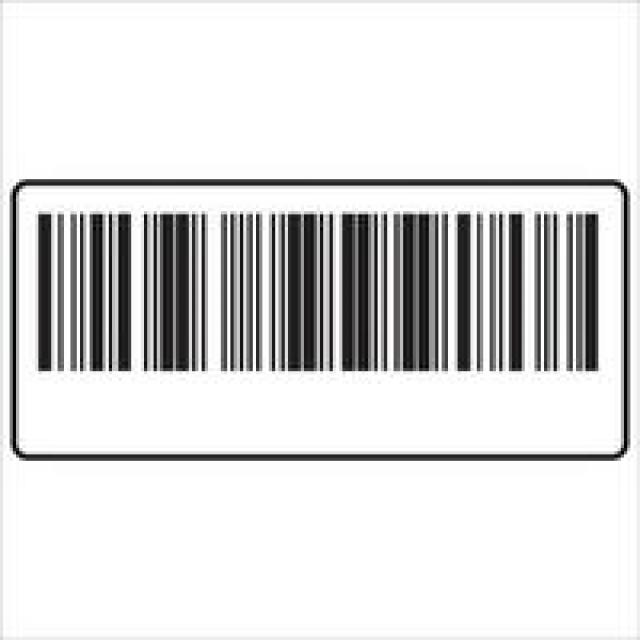Barkod: (29, 159, 618, 391)
